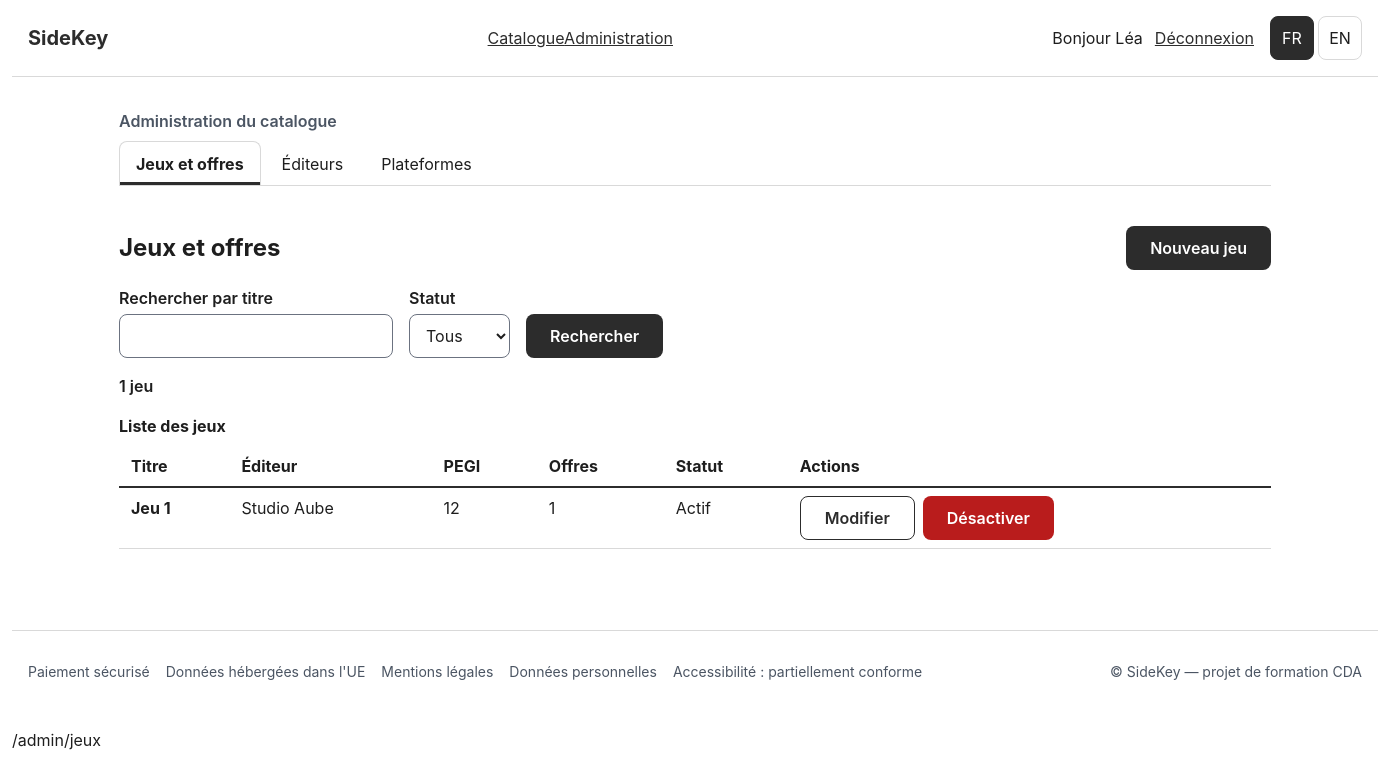
Test: écran E12 — liste des jeux (US-50) › désactive un jeu après confirmation (suppression logique) et recharge la liste
Expected: the table is shown, x1=119 y1=414 x2=1271 y2=549
Click the button with aria-label "Désactiver Jeu 1" at (988, 518), box x1=923 y1=496 x2=1054 y2=540
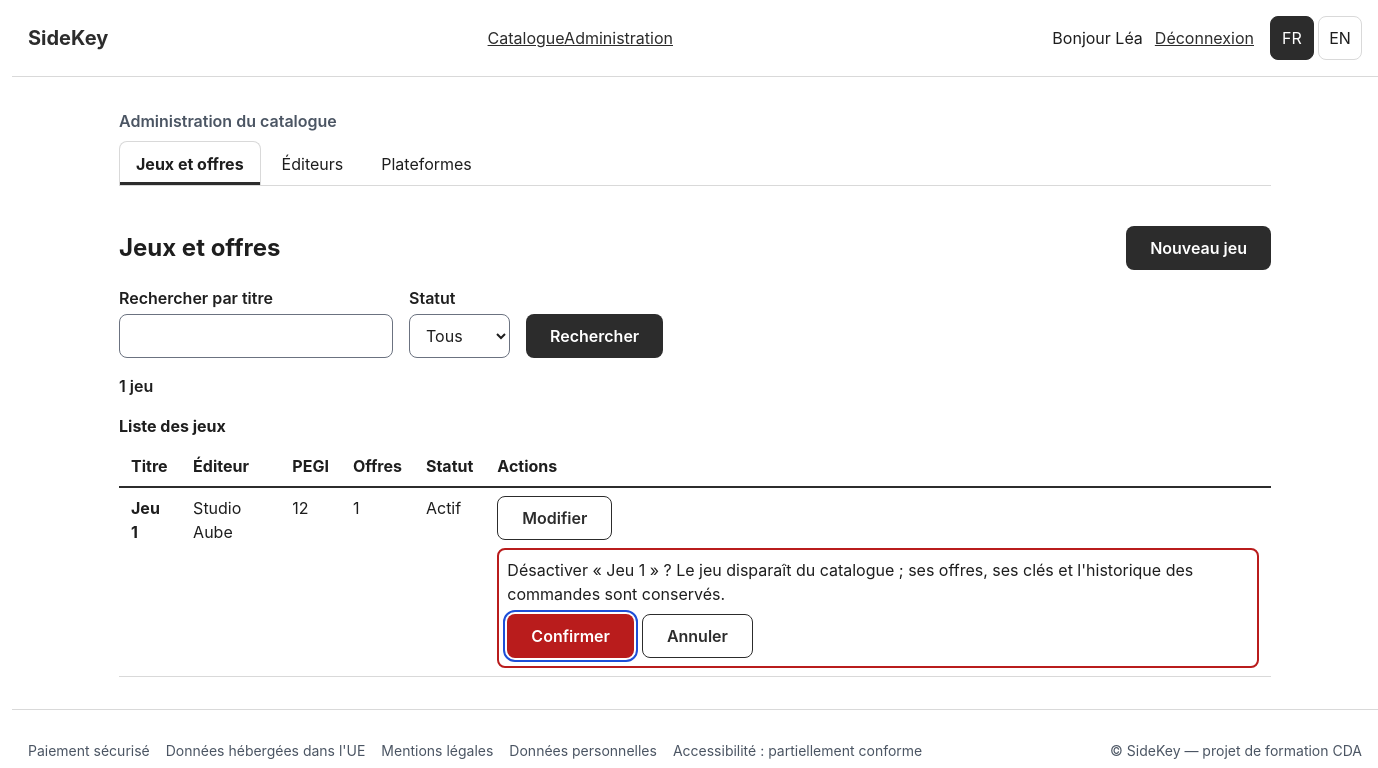
Expected: the element "Désactiver « Jeu 1 »" shows "ses offres, ses clés et l'historique des commandes sont conservés", x1=507 y1=560 x2=1193 y2=604
Click the button "Confirmer" at (571, 636), box x1=507 y1=614 x2=634 y2=658
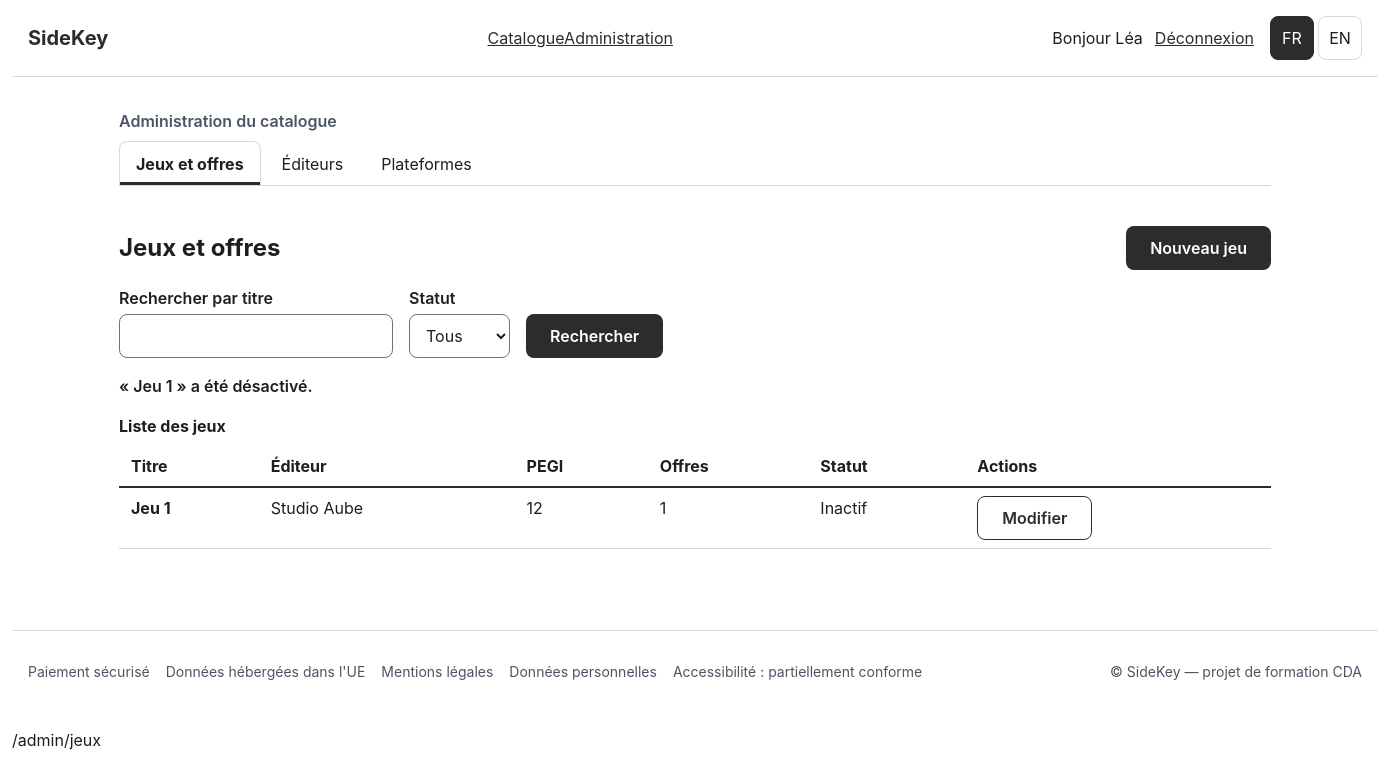
Expected: the text "« Jeu 1 » a été désactivé." is shown, x1=119 y1=376 x2=313 y2=396
Expected: the text "Inactif" is shown, x1=808 y1=487 x2=965 y2=548
